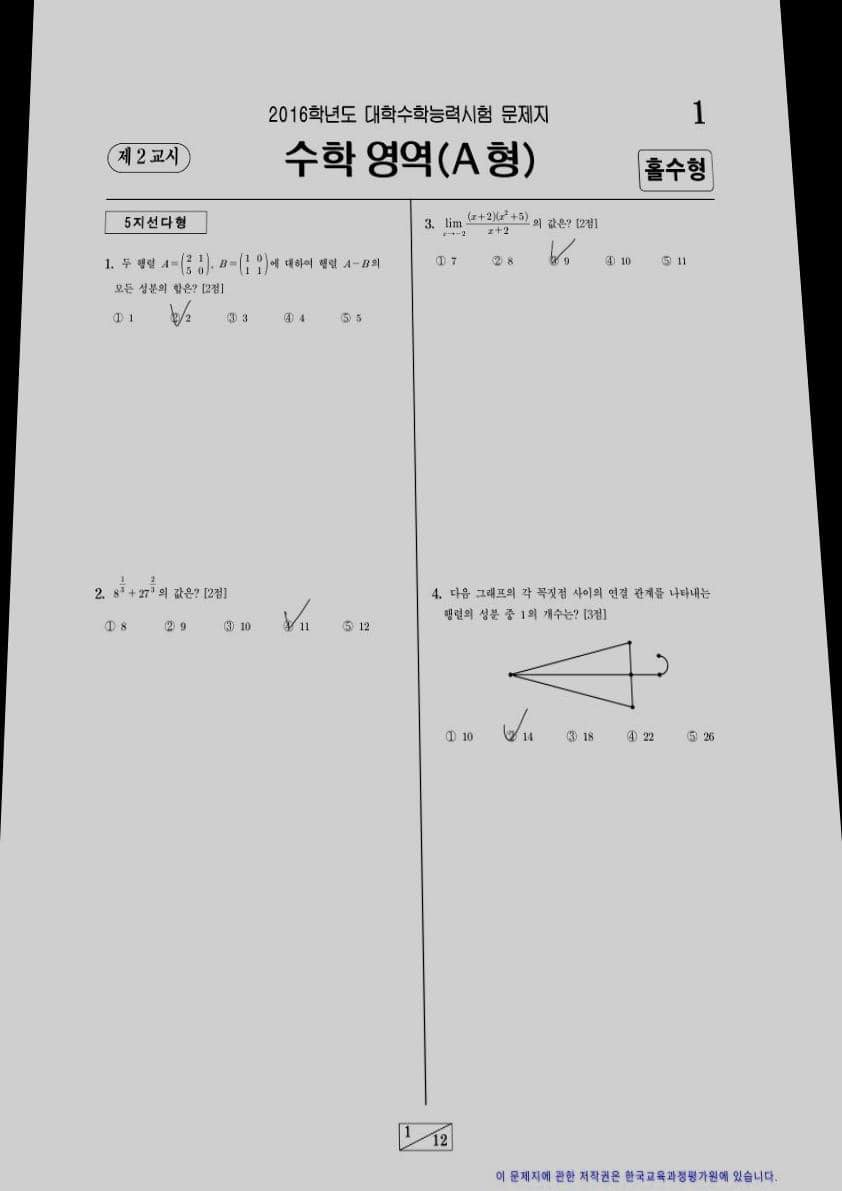question: (417, 576, 736, 762), (87, 248, 390, 337), (78, 570, 379, 654), (417, 205, 698, 285)
